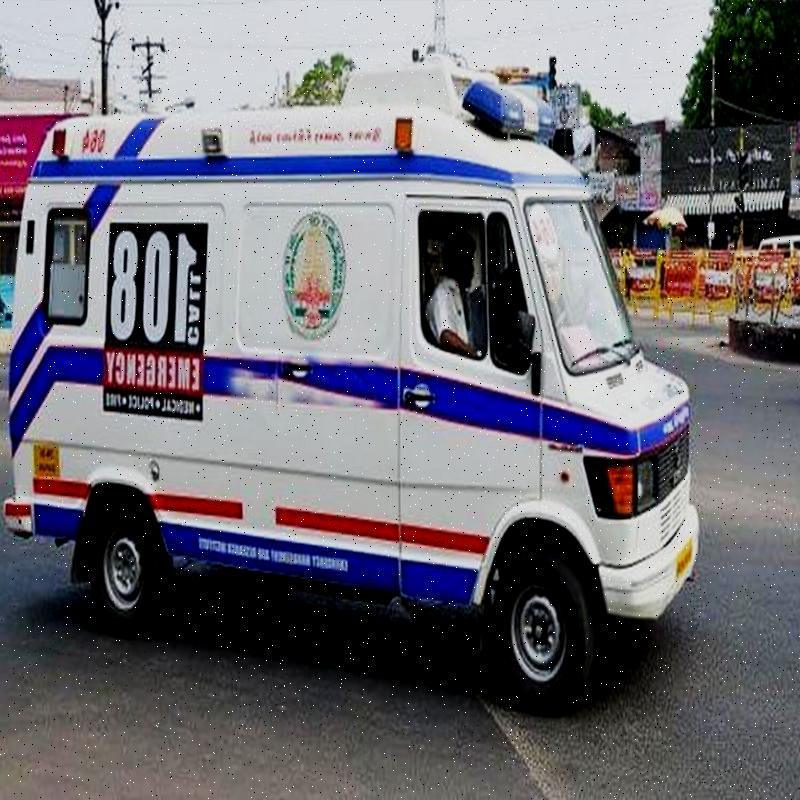ambulance: (23, 100, 680, 663)
